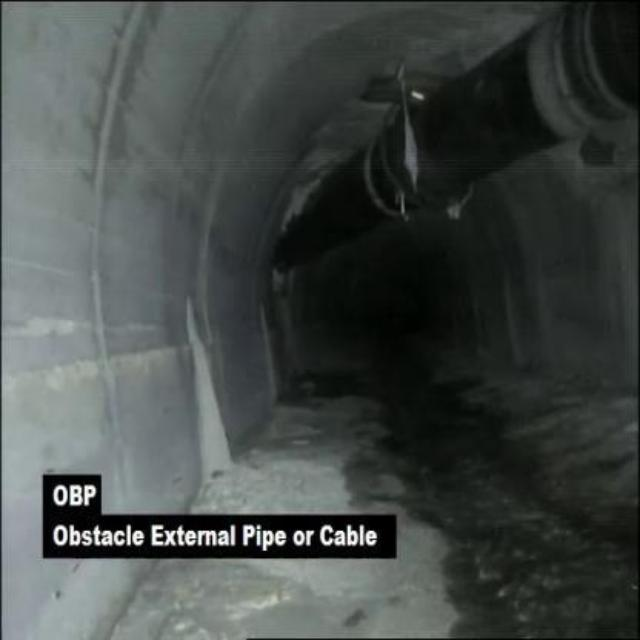Utility intrusion: (269, 8, 638, 280)
